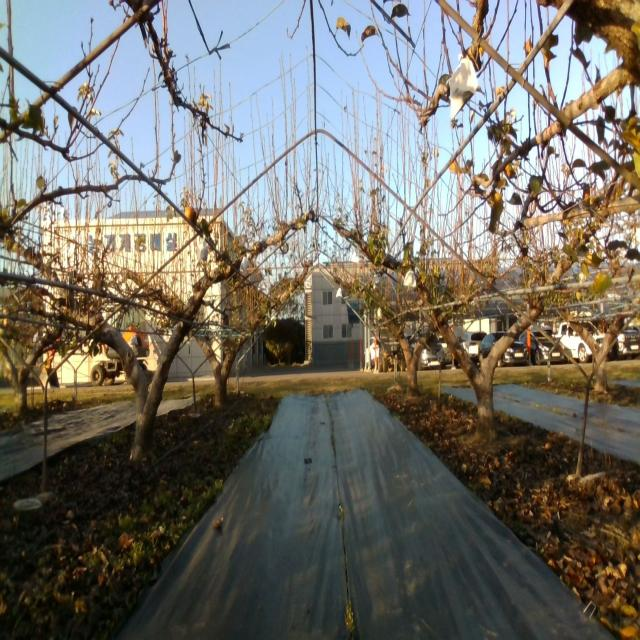pearbags: (449, 53, 479, 123), (403, 267, 416, 288), (198, 234, 208, 261), (239, 256, 249, 277)
